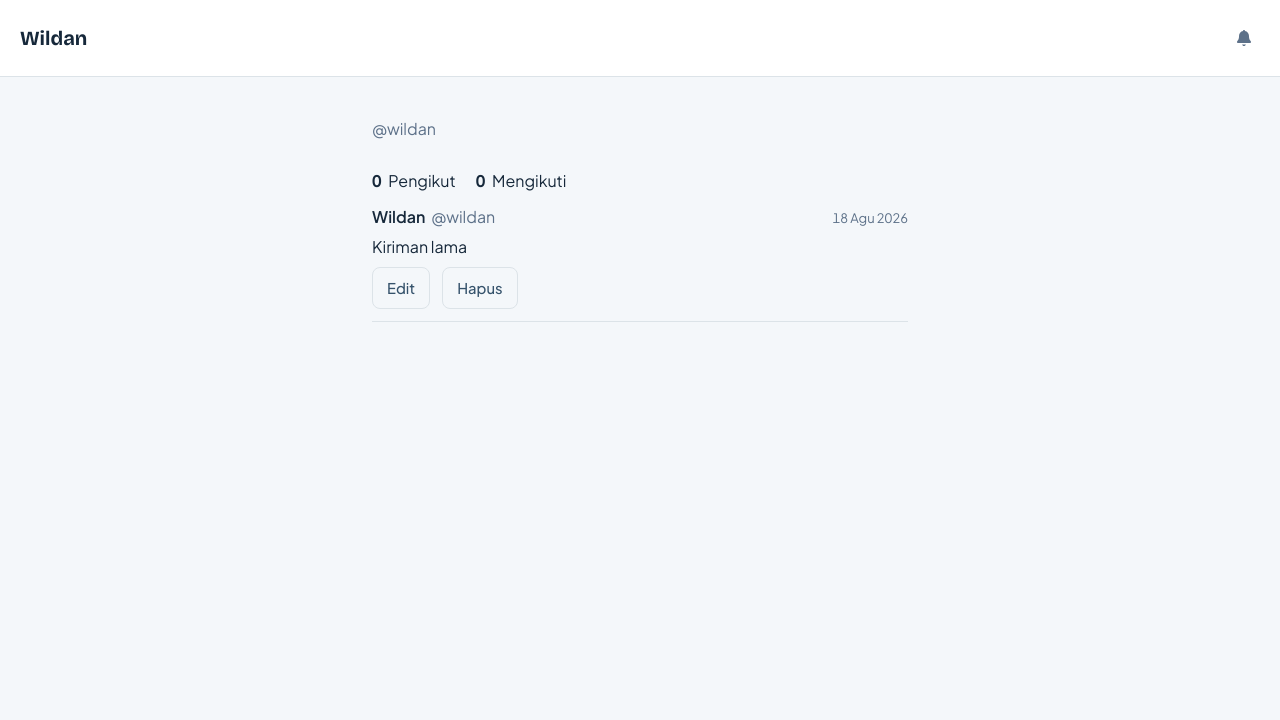
ProfilePage — posts (Task 6) › keeps the row and shows Bahasa copy when the delete fails
Check: the text "Kiriman lama" is shown, box [372,236,467,257]
What coordinates should you click on to do the following:
click the button "Hapus"
I would click on:
 (480, 288)
Its box is [442,267,518,309].
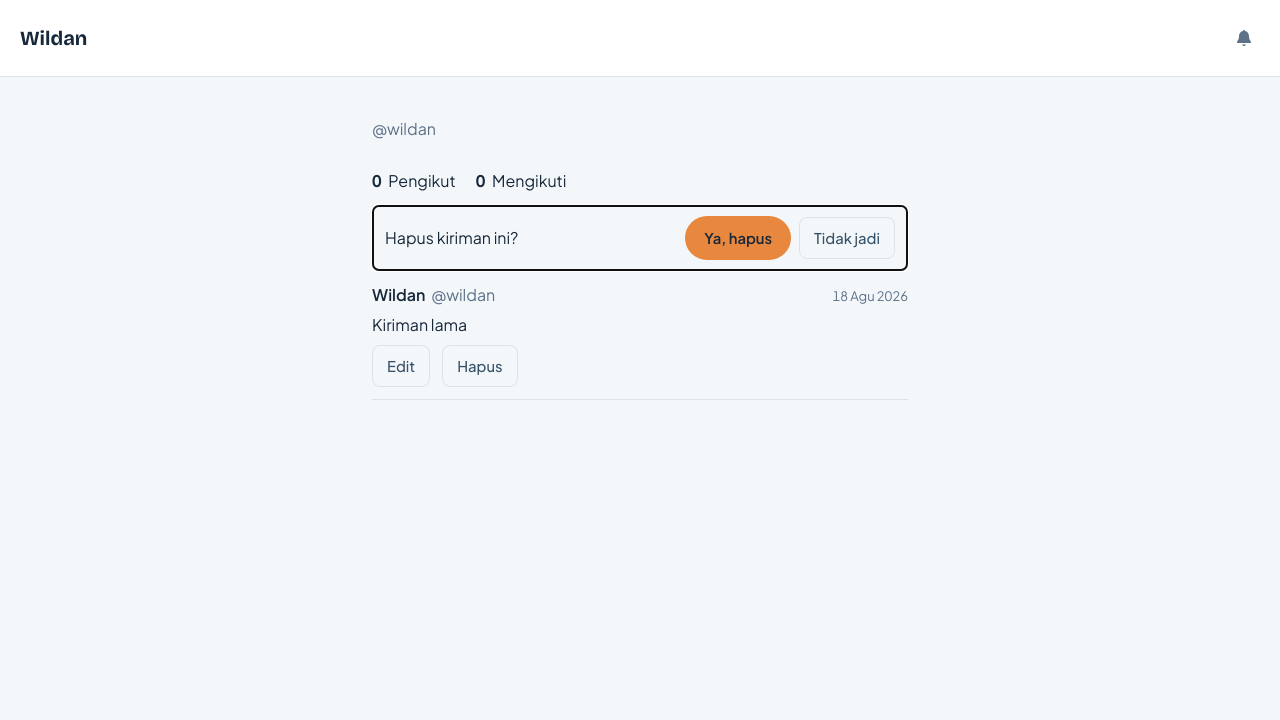
What coordinates should you click on to do the following:
click the button "Ya, hapus"
I would click on:
 (738, 238)
Its box is [685,216,791,260].
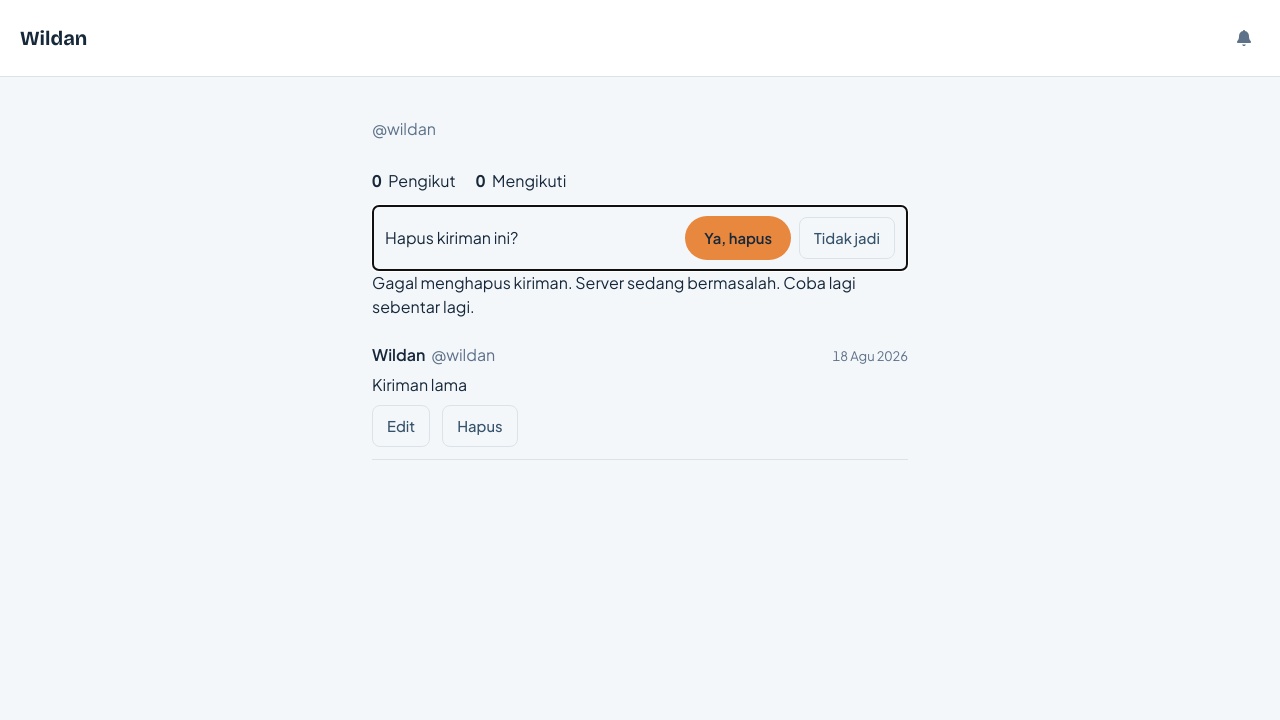
Check: the text "Kiriman lama" is shown, box [372,374,467,395]
Check: the message reads "Gagal menghapus kiriman. Server sedang bermasalah. Coba lagi sebentar lagi.", box [372,272,856,317]
